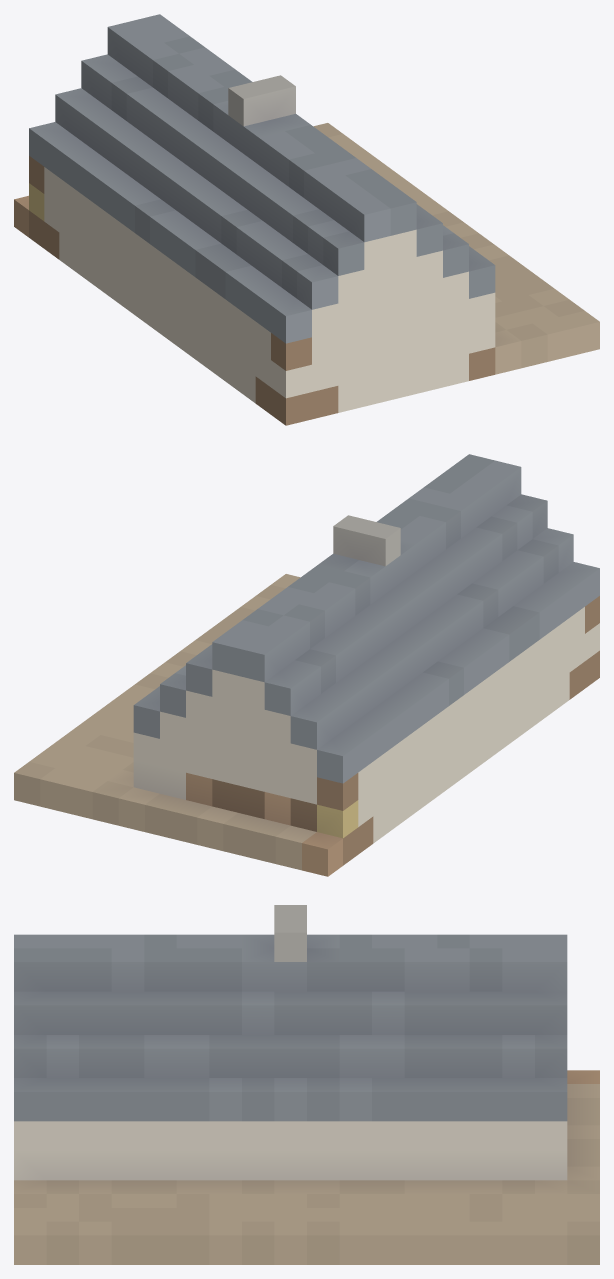
Rendered from winepress.lite.glb.
The picture shows the model from 3 angles, top to bottom: view 1: azimuth 30°, elevation 25°; view 2: azimuth 150°, elevation 25°; view 3: azimuth 270°, elevation 25°; orthographic projection. The views are drawn at different scales.
Visible parts, largest first — view 1: winepress; view 2: winepress; view 3: winepress.
Boxes of the visible parts, x1=… form: winepress: x1=14, y1=14, x2=599, y2=425; winepress: x1=14, y1=454, x2=599, y2=876; winepress: x1=14, y1=905, x2=599, y2=1264.
Size of the model in its own units: 6 by 4 by 9.
